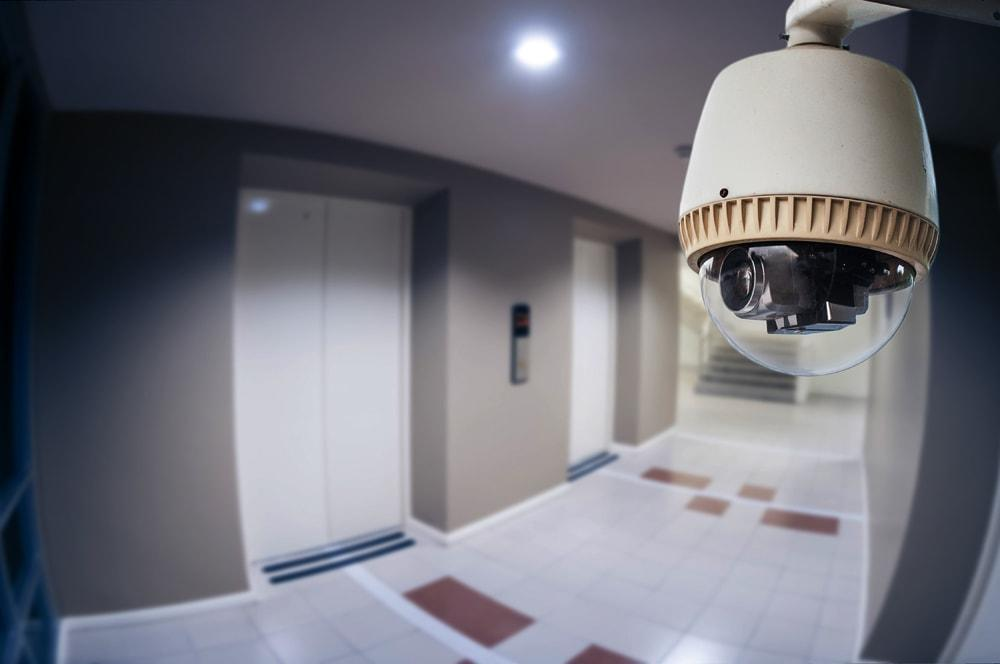CCTV: (681, 0, 940, 376)
